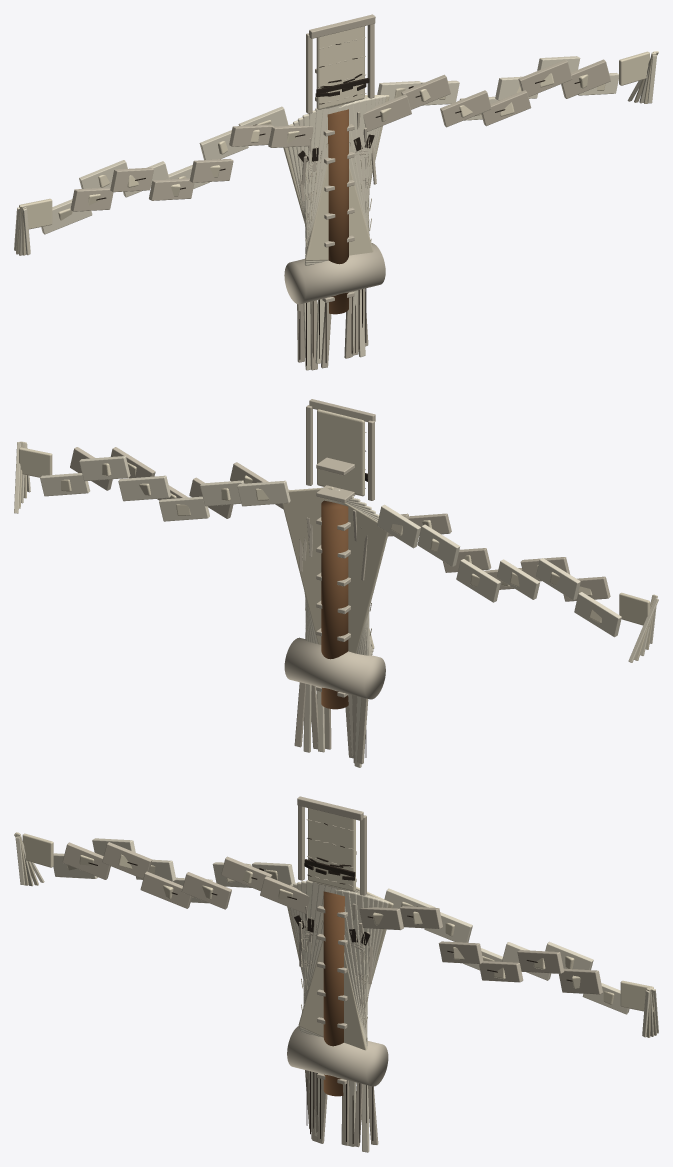
3 renders of one model, top to bottom at view 1: azimuth 30°, elevation 25°; view 2: azimuth 150°, elevation 25°; view 3: azimuth 330°, elevation 25°, orthographic.
Visible parts, largest first — view 1: waist_roll, book_spine, blank_face_page, torso_pages_01, torso_pages_12, arm_r_accordion_panel_09, arm_r_accordion_panel_11, arm_r_accordion_panel_05, arm_r_accordion_panel_01, arm_l_accordion_panel_09, arm_r_accordion_panel_03, arm_l_accordion_panel_05 (+22 smaller); view 2: book_spine, waist_roll, torso_pages_01, torso_pages_12, blank_face_page, arm_r_accordion_panel_02, arm_r_accordion_panel_08, arm_l_accordion_panel_12, arm_r_accordion_panel_10, arm_l_accordion_panel_06, arm_l_accordion_panel_02, arm_l_accordion_panel_04 (+13 smaller); view 3: waist_roll, book_spine, blank_face_page, torso_pages_12, torso_pages_01, arm_l_accordion_panel_05, arm_l_accordion_panel_09, arm_l_accordion_panel_01, arm_l_accordion_panel_07, arm_r_accordion_panel_11, arm_l_accordion_panel_11, arm_r_accordion_panel_09 (+23 smaller).
Part boxes in pixels (x1=…): waist_roll: x1=284, y1=243, x2=385, y2=304; book_spine: x1=327, y1=109, x2=348, y2=314; blank_face_page: x1=316, y1=26, x2=364, y2=109; torso_pages_01: x1=283, y1=147, x2=373, y2=255; torso_pages_12: x1=305, y1=95, x2=389, y2=260; arm_r_accordion_panel_09: x1=518, y1=59, x2=572, y2=96; arm_r_accordion_panel_11: x1=561, y1=59, x2=610, y2=98; arm_r_accordion_panel_05: x1=440, y1=90, x2=491, y2=127; arm_r_accordion_panel_01: x1=363, y1=94, x2=411, y2=131; arm_l_accordion_panel_09: x1=110, y1=167, x2=153, y2=192; arm_r_accordion_panel_03: x1=401, y1=74, x2=450, y2=109; arm_l_accordion_panel_05: x1=189, y1=159, x2=233, y2=182; book_spine: x1=321, y1=500, x2=348, y2=709; waist_roll: x1=284, y1=637, x2=385, y2=699; torso_pages_01: x1=343, y1=503, x2=388, y2=653; torso_pages_12: x1=282, y1=487, x2=374, y2=649; blank_face_page: x1=317, y1=409, x2=364, y2=496; arm_r_accordion_panel_02: x1=237, y1=480, x2=290, y2=506; arm_r_accordion_panel_08: x1=118, y1=475, x2=170, y2=501; arm_l_accordion_panel_12: x1=574, y1=592, x2=621, y2=637; arm_r_accordion_panel_10: x1=79, y1=456, x2=130, y2=481; arm_l_accordion_panel_06: x1=456, y1=559, x2=500, y2=602; arm_l_accordion_panel_02: x1=377, y1=504, x2=420, y2=548; arm_l_accordion_panel_04: x1=417, y1=524, x2=460, y2=566; waist_roll: x1=287, y1=1026, x2=388, y2=1086; book_spine: x1=323, y1=891, x2=344, y2=1096; blank_face_page: x1=308, y1=808, x2=355, y2=891; torso_pages_12: x1=298, y1=886, x2=393, y2=1037; torso_pages_01: x1=287, y1=906, x2=367, y2=1050; arm_l_accordion_panel_05: x1=181, y1=872, x2=231, y2=909; arm_l_accordion_panel_09: x1=102, y1=842, x2=152, y2=878; arm_l_accordion_panel_01: x1=260, y1=876, x2=309, y2=913; arm_l_accordion_panel_07: x1=140, y1=871, x2=191, y2=908; arm_r_accordion_panel_11: x1=559, y1=968, x2=602, y2=994; arm_l_accordion_panel_11: x1=62, y1=842, x2=110, y2=879; arm_r_accordion_panel_09: x1=517, y1=950, x2=564, y2=973.
Bounding box in the file's own units: 5.8 × 3 × 0.3694.
